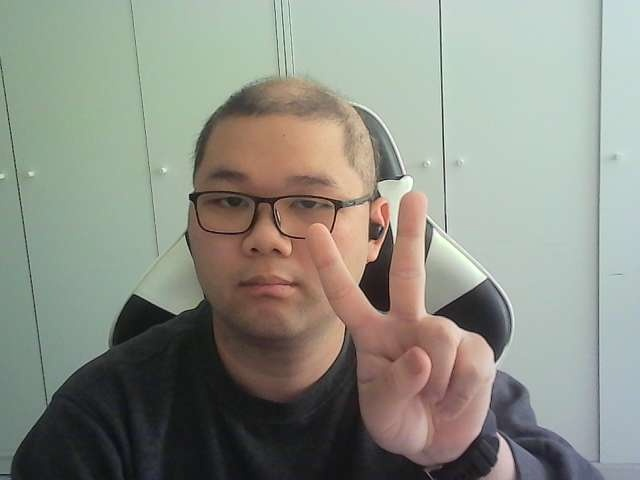Two: (306, 192, 496, 455)
